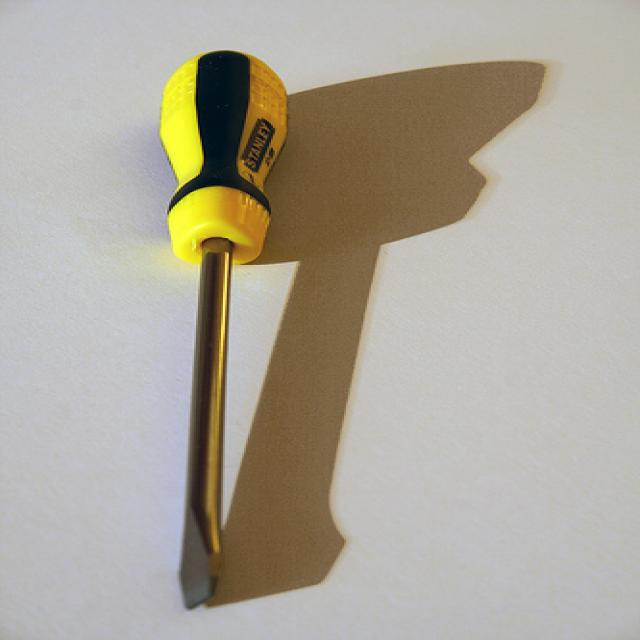screw driver: (94, 26, 330, 628)
